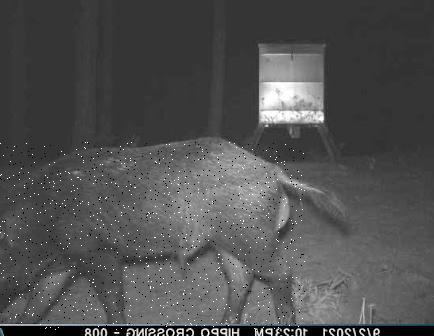Hog: (0, 142, 305, 331)
